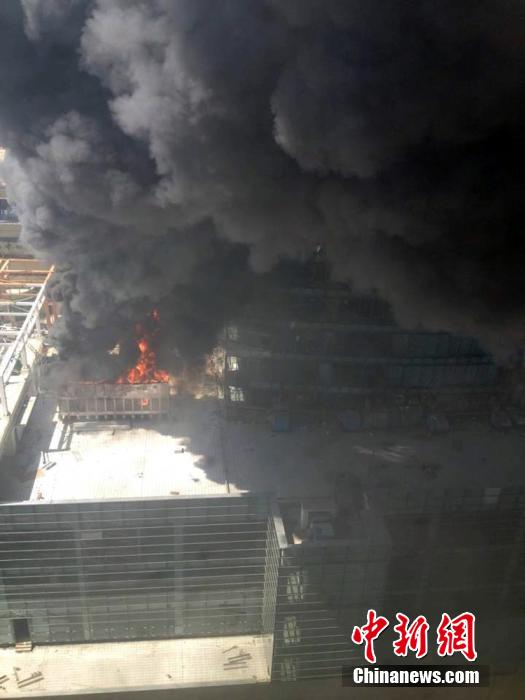fire: (110, 332, 176, 388)
